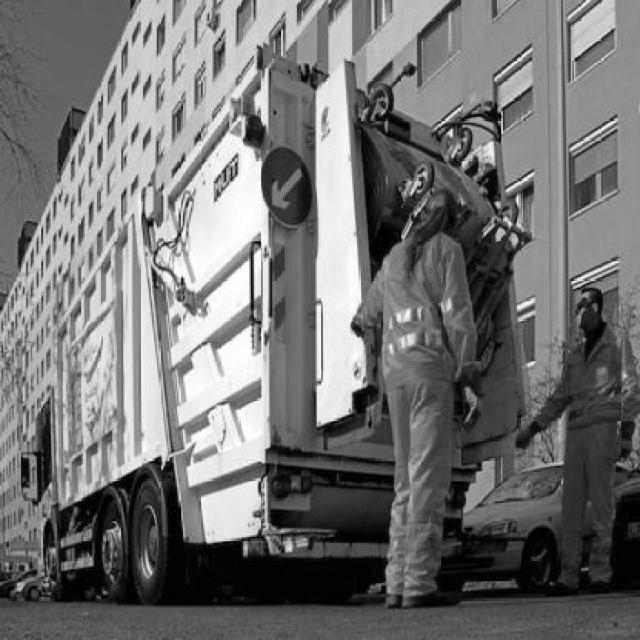Garbage Truck: (18, 37, 531, 607)
